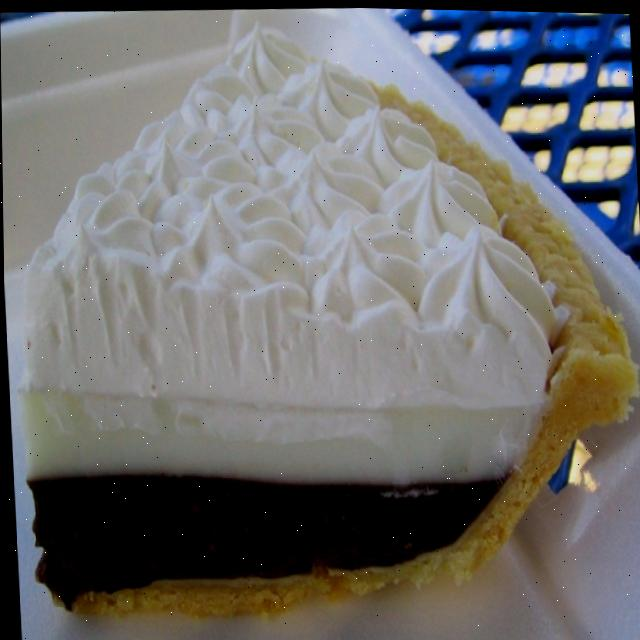蛋糕甜品: (0, 30, 630, 618)
